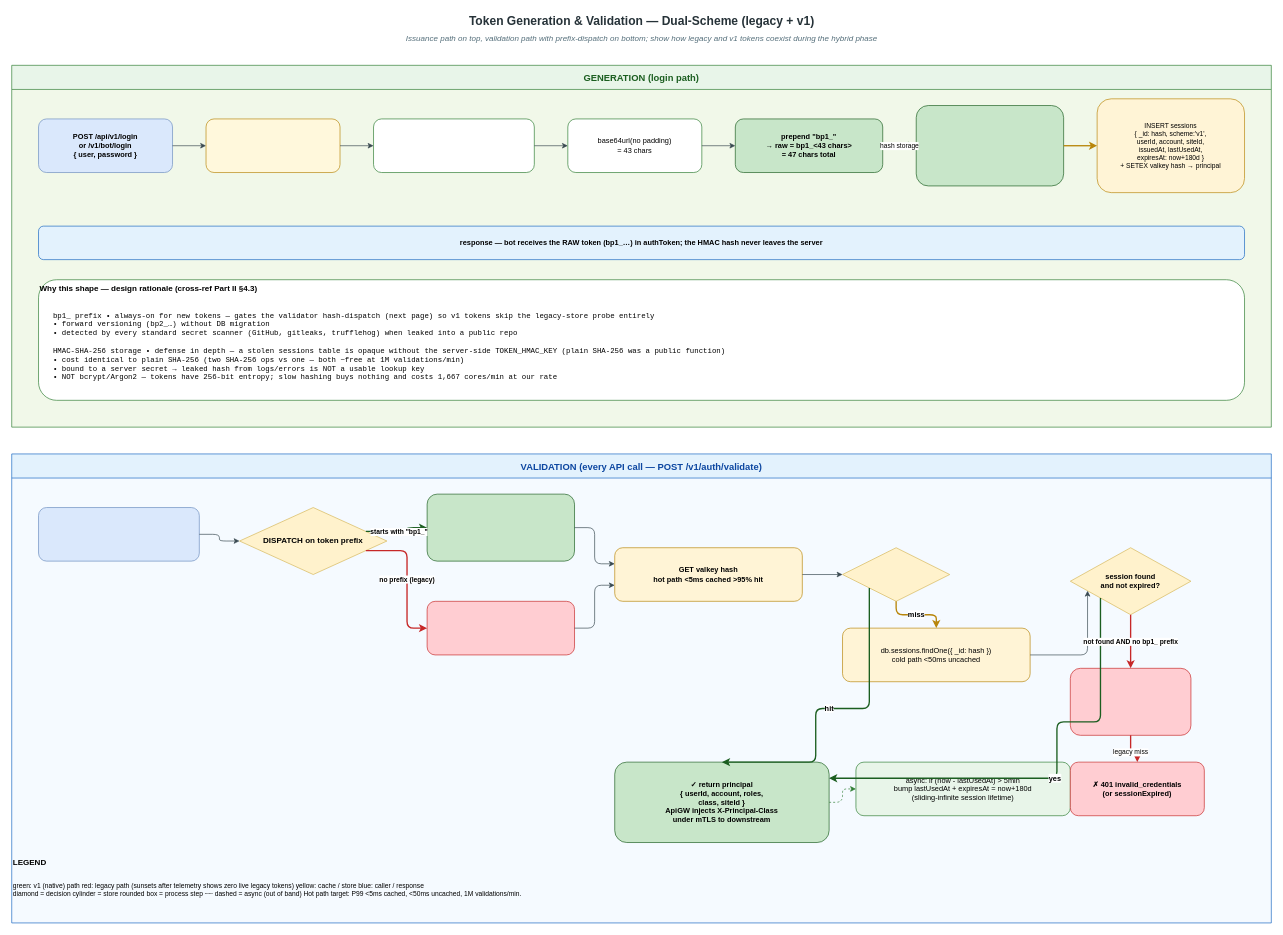
The diagram is 1283 pixels wide and 935 high, and some of its shapes have lost their labels. Here are the shapes that lost their labels. From the top down, the centre of each, then its label:
At point 272,145: "bcrypt verify + provisioning gate (see Part II §5.1)".
At point 453,145: "crypto/rand.Read(32 bytes) → 256 bits of entropy".
At point 990,145: "hash = base64( HMAC-SHA-256( TOKEN_HMAC_KEY, raw)) = 44 chars".
At point 118,534: "ApiGW / WS / EventConsumer POST /v1/auth/validate { userId, authToken }".
At point 500,527: "hash = base64( HMAC-SHA-256( TOKEN_HMAC_KEY, authToken))".
At point 896,574: "cache hit?".
At point 500,628: "hash = base64( sha256(authToken))".
At point 1130,701: "legacy-store probe (hybrid phase only) auth Part III §4.3".
